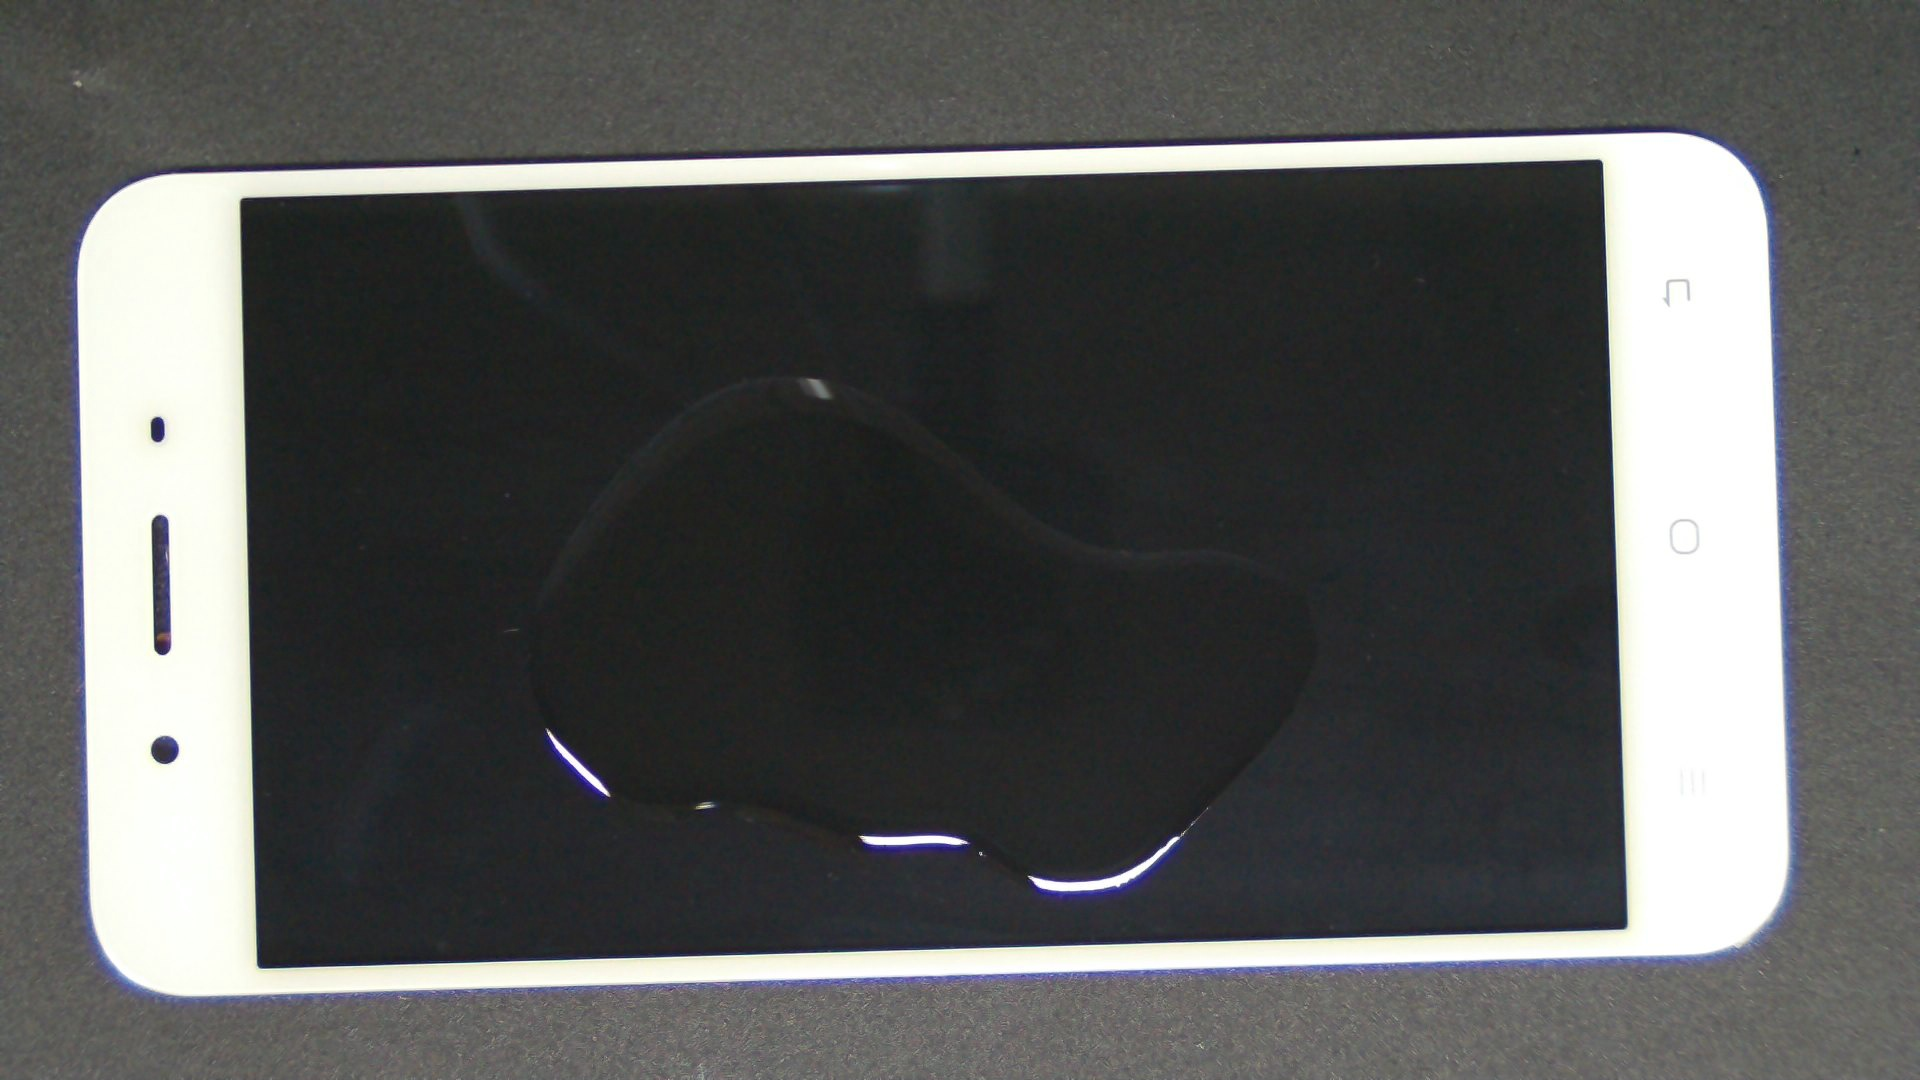oil: (389, 187, 1163, 564)
